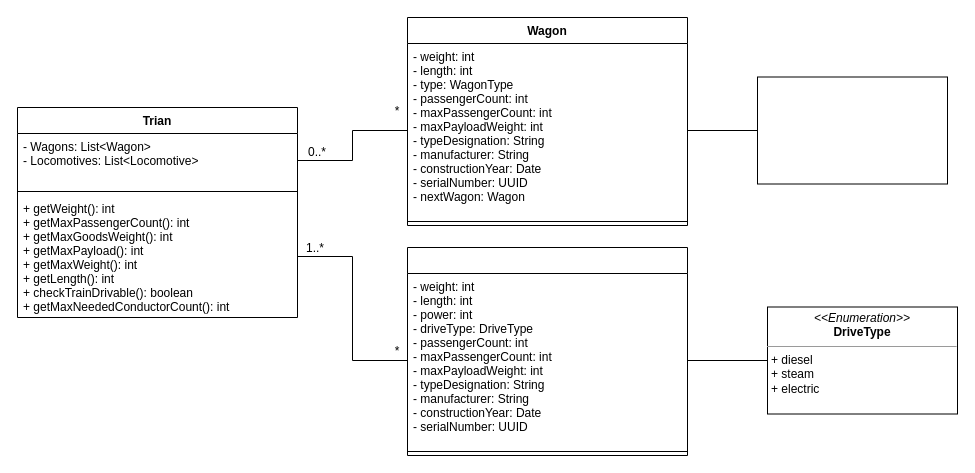
Some shapes in this 975 by 473 pixel diagram are drawn without their labels. Each missing label, with the box of its shape:
<<Enumeration>> WagonType + passenger + sleep + eating + goods: (756, 76, 948, 184)
Locomotive: (406, 246, 688, 456)
